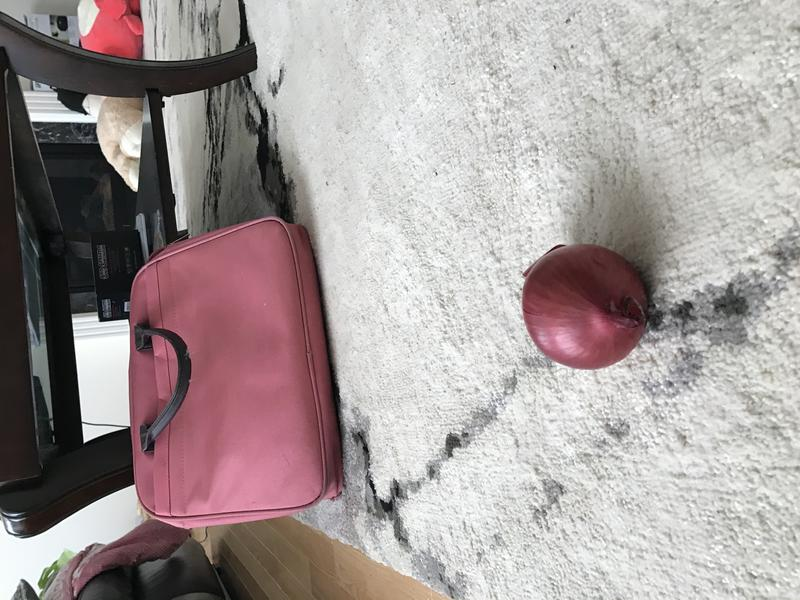purple_onion: (516, 234, 660, 377)
